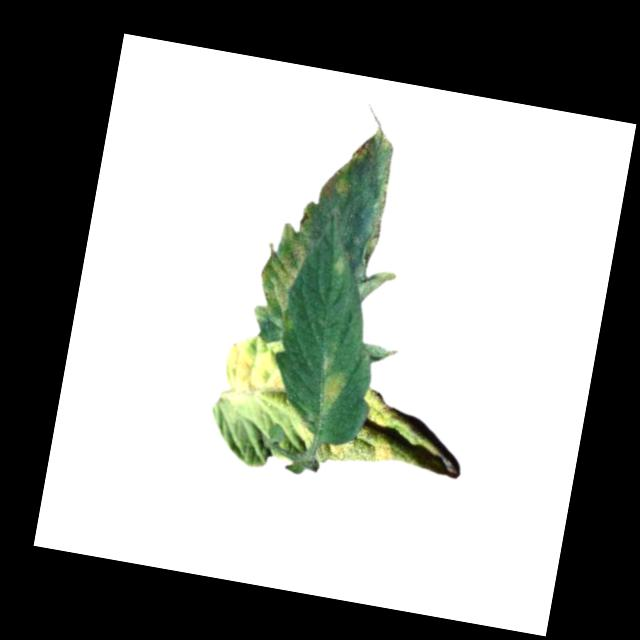Leaf_Mold: (319, 384, 451, 481), (250, 222, 312, 334), (218, 332, 289, 405), (316, 163, 354, 211), (314, 368, 346, 419), (350, 133, 378, 165)
